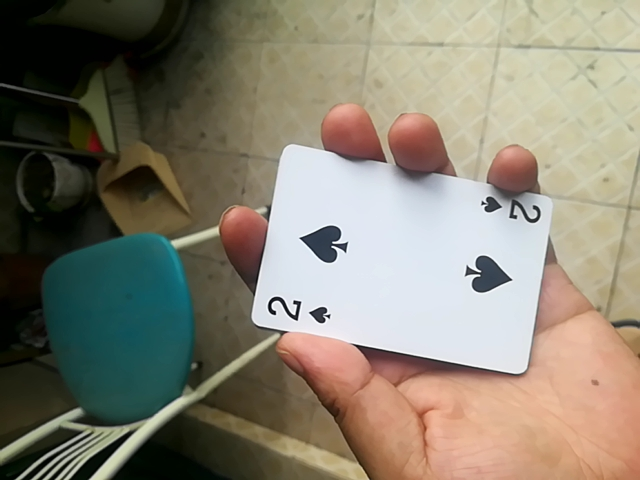ht 2: (253, 150, 552, 380)
